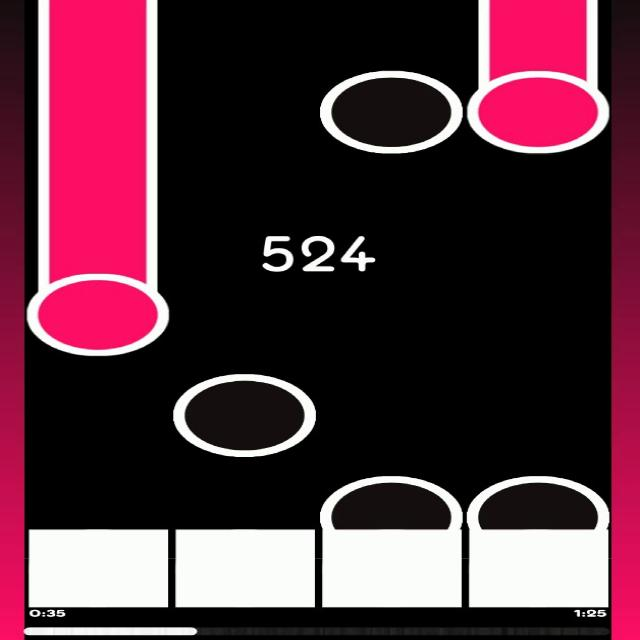note: (319, 69, 466, 154), (174, 372, 318, 458), (317, 477, 466, 530), (467, 477, 610, 530)
start_hold: (29, 250, 169, 356), (468, 56, 608, 152)
